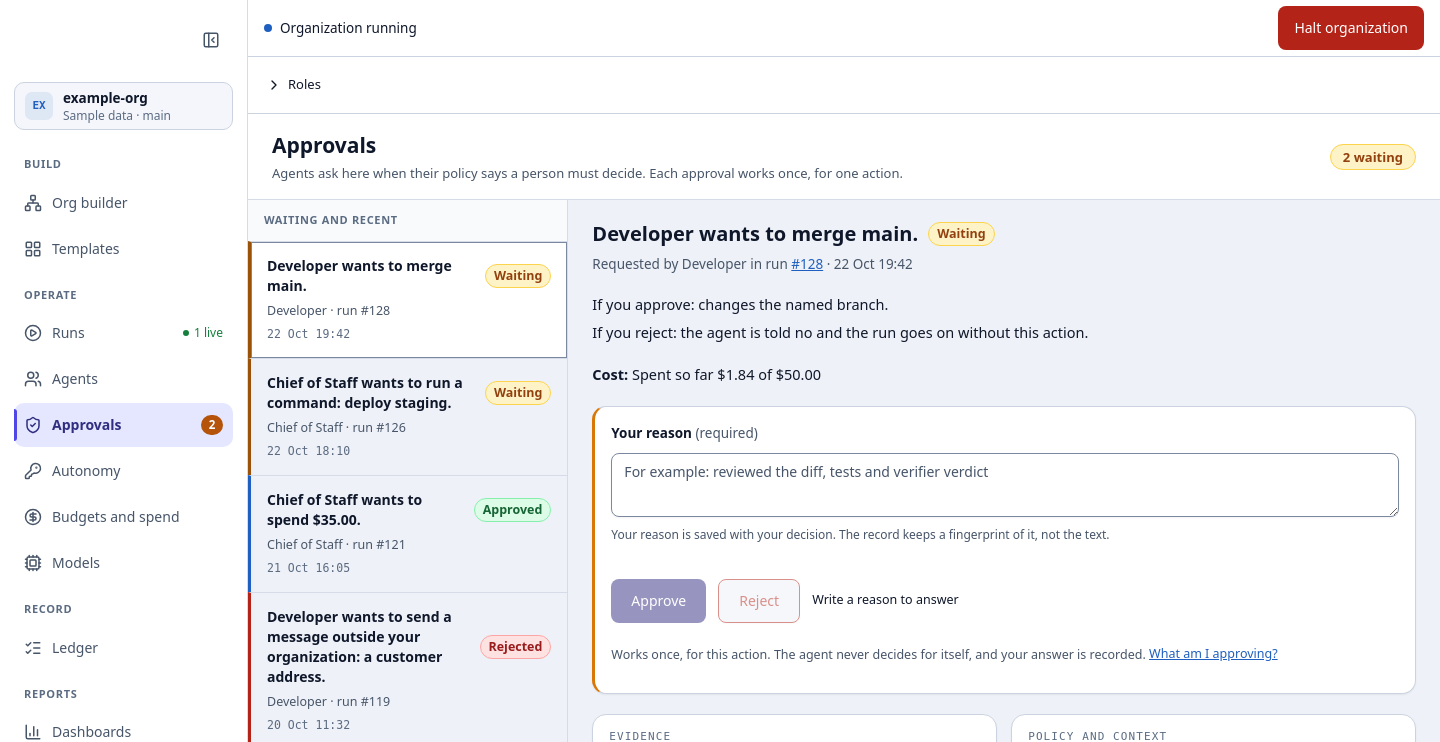
Test: Approvals decisions › deciding from /approvals keeps showing that request, with the outcome
Type "ok merge" into the text box labelled "Your reason (required)" at (1005, 485), box [611,453,1399,517]
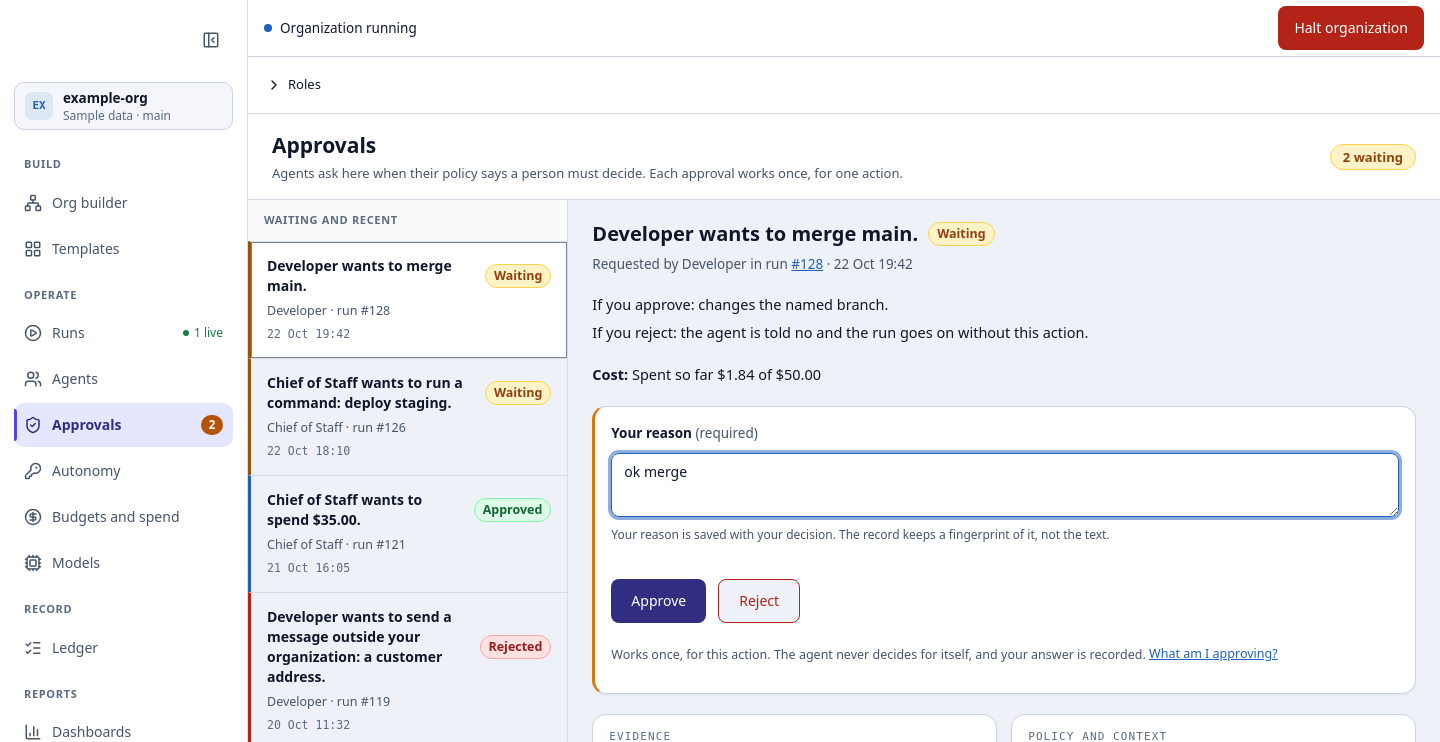
Click the button "Approve" at (659, 601), box [611,579,706,623]
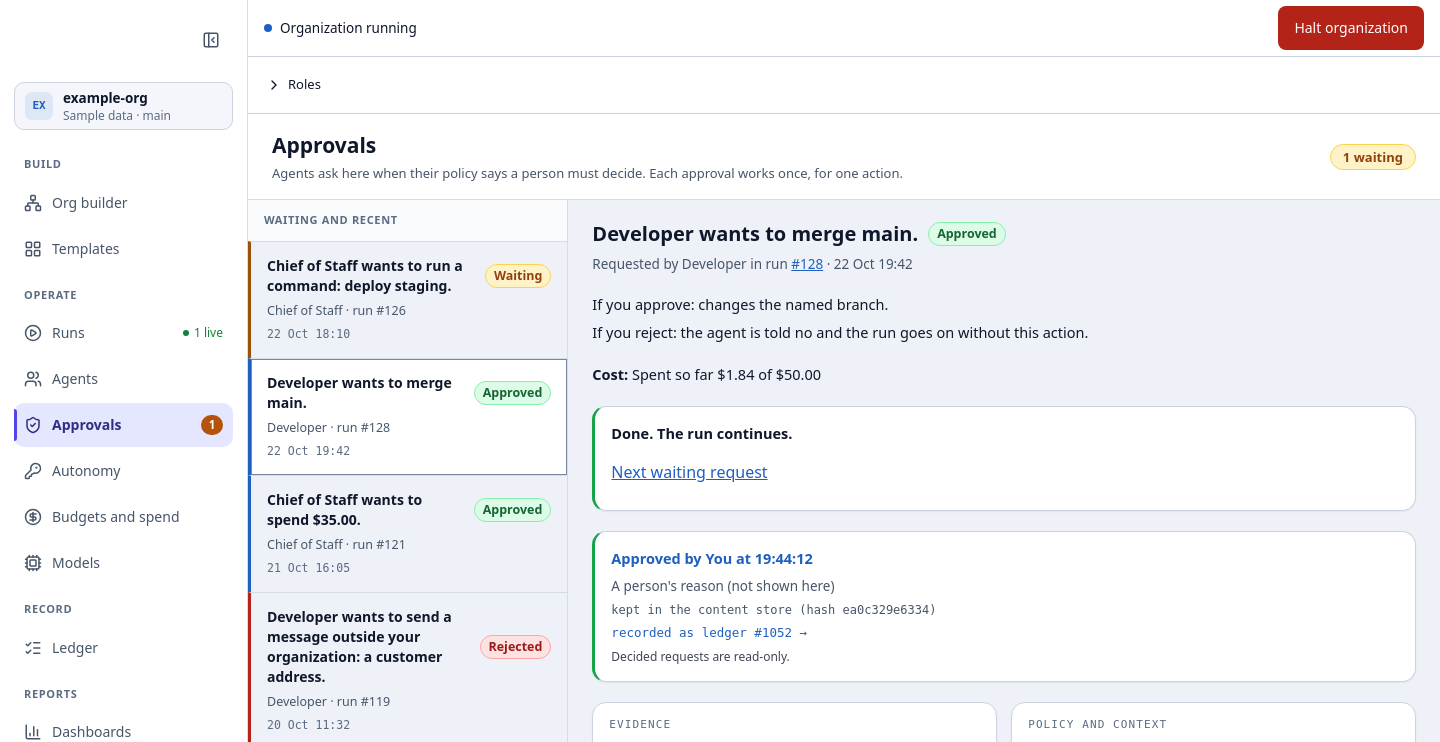
expect the text "ok merge" is not shown: met
expect the text "Approved by You at 19:44:12" is shown: met, box [611,548,813,568]
expect the text "A person's reason (not shown here)" is shown: met, box [611,577,834,595]
